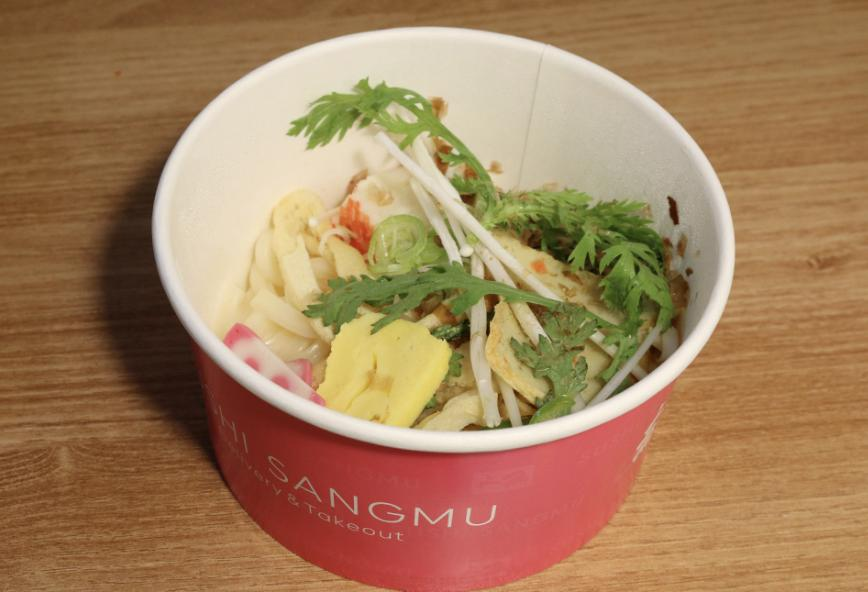Lunch Box: (153, 28, 733, 591)
